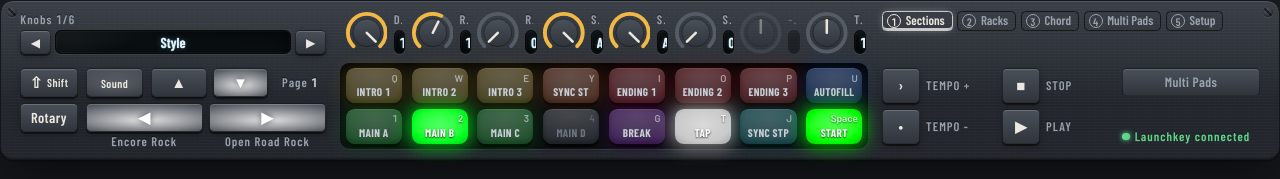
Test: Launchkey mirror › shows the hardware's knob page, and ◀ ▶ step it as the encoder page buttons do
Click the button named "Next knob page": coordinates (311, 42) top-left (295, 30), bottom-right (326, 54)
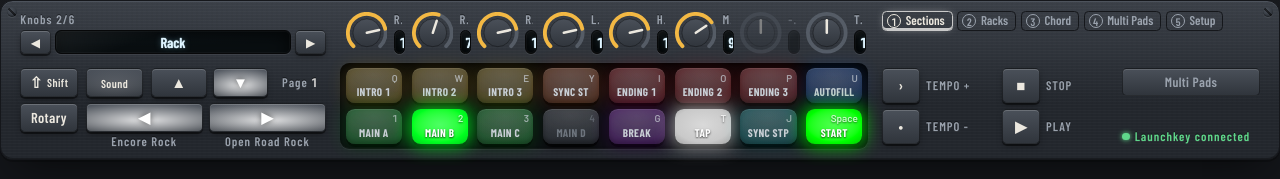
Expected: the text "Rack" is shown, top-left (160, 34), bottom-right (186, 51)
Click the button named "Previous knob page": coordinates (35, 42) top-left (20, 30), bottom-right (51, 54)
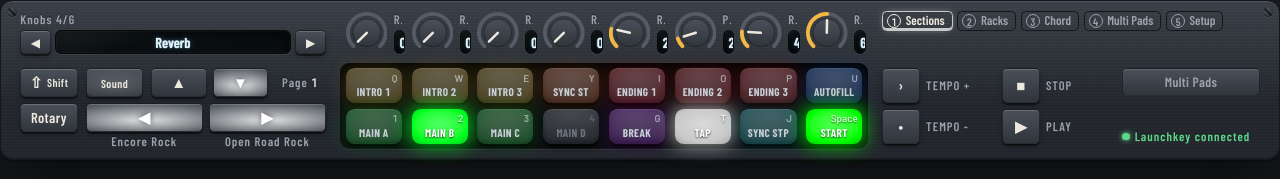
Expected: the text "Reverb" is shown, top-left (155, 34), bottom-right (191, 51)
